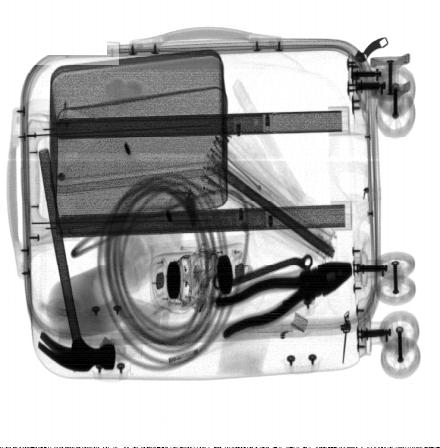Hammer: (37, 149, 115, 369)
Pliers: (214, 260, 355, 337)
Wrench: (213, 252, 315, 289)
